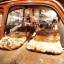pizza: (28, 29, 62, 55), (4, 29, 26, 51)
